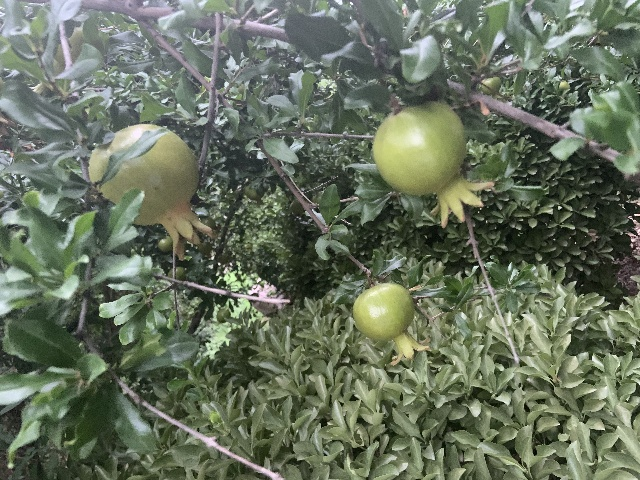mid-growth: (89, 124, 216, 259), (372, 102, 495, 227), (352, 282, 432, 365), (481, 76, 502, 100)
